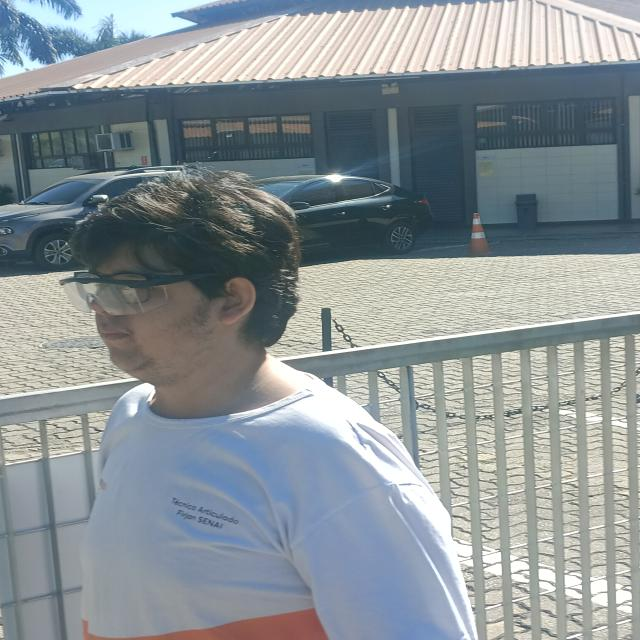oculos-epi: (59, 271, 215, 315)
